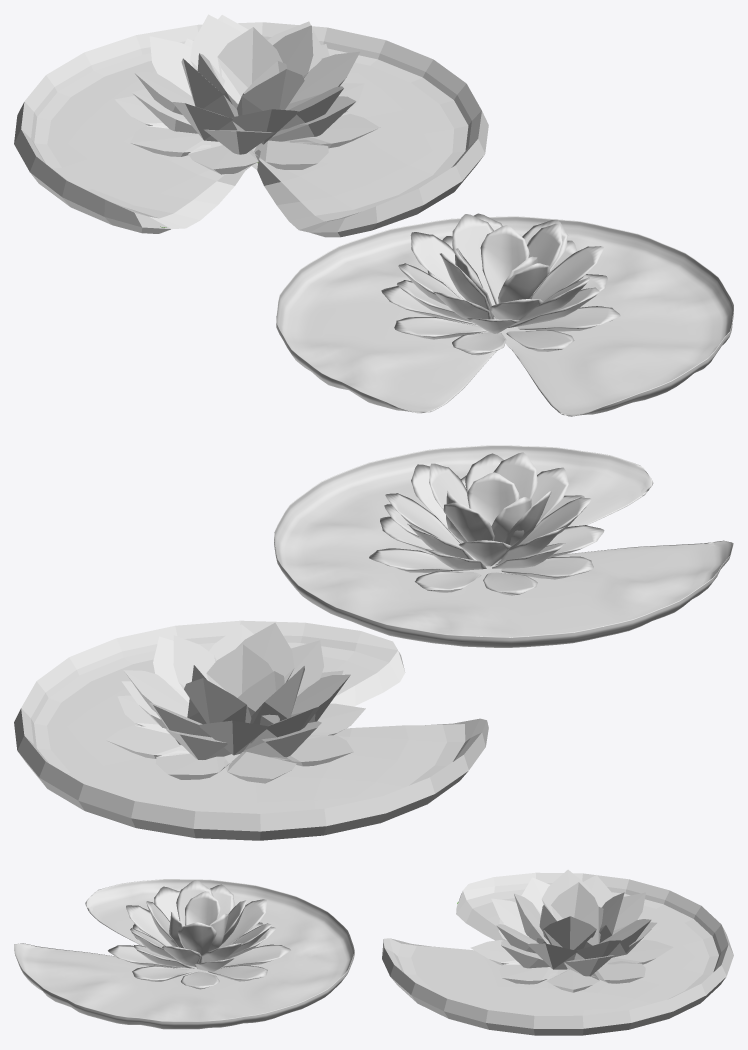
File: LillyPad.fbx
3 renders of one model, top to bottom at view 1: azimuth 30°, elevation 25°; view 2: azimuth 150°, elevation 25°; view 3: azimuth 270°, elevation 25°, orthographic. The views are drawn at different scales.
Parts seen in each view (by area): view 1: Cage, High Poly; view 2: Cage, High Poly; view 3: Cage, High Poly.
Part boxes in pixels (x1,y1,x2,y2): Cage: [14, 14, 488, 237]; High Poly: [276, 213, 733, 416]; Cage: [14, 620, 488, 840]; High Poly: [274, 445, 733, 647]; Cage: [382, 869, 733, 1035]; High Poly: [14, 879, 354, 1029].
Size of the model in its own units: 648 by 165 by 1341.
